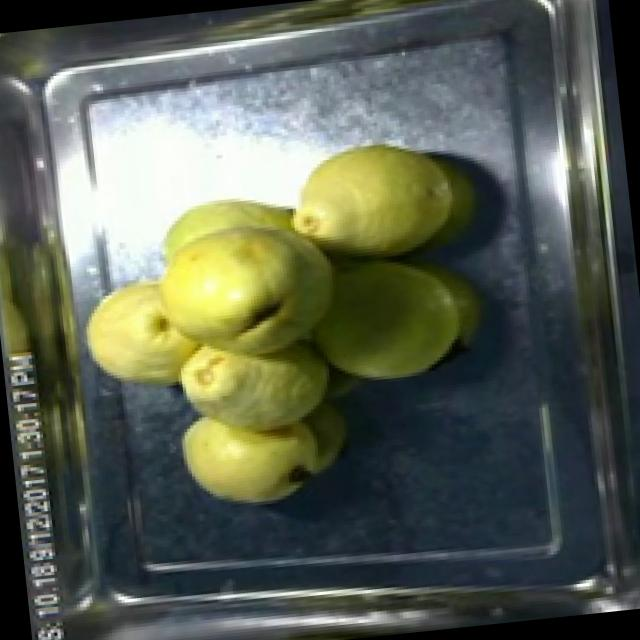Fruit: (56, 172, 338, 406), (275, 118, 484, 278), (294, 235, 496, 398), (164, 378, 362, 518)
